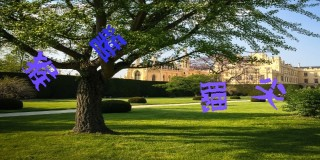嘴: (87, 25, 127, 62)
尖: (253, 77, 287, 110)
猴: (23, 50, 57, 90)
腮: (199, 80, 228, 113)
